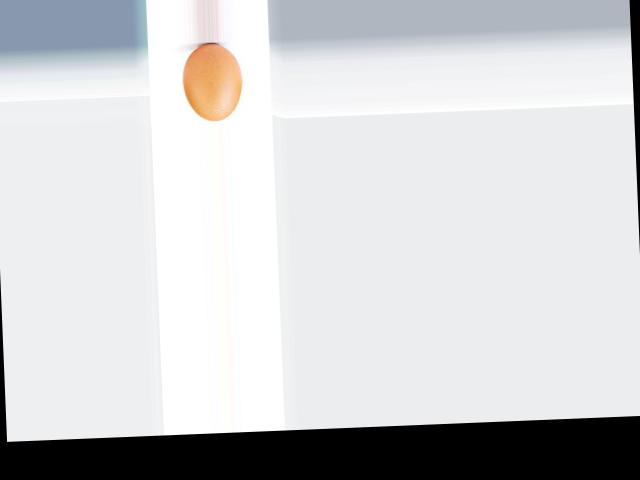egg: (181, 42, 243, 121)
